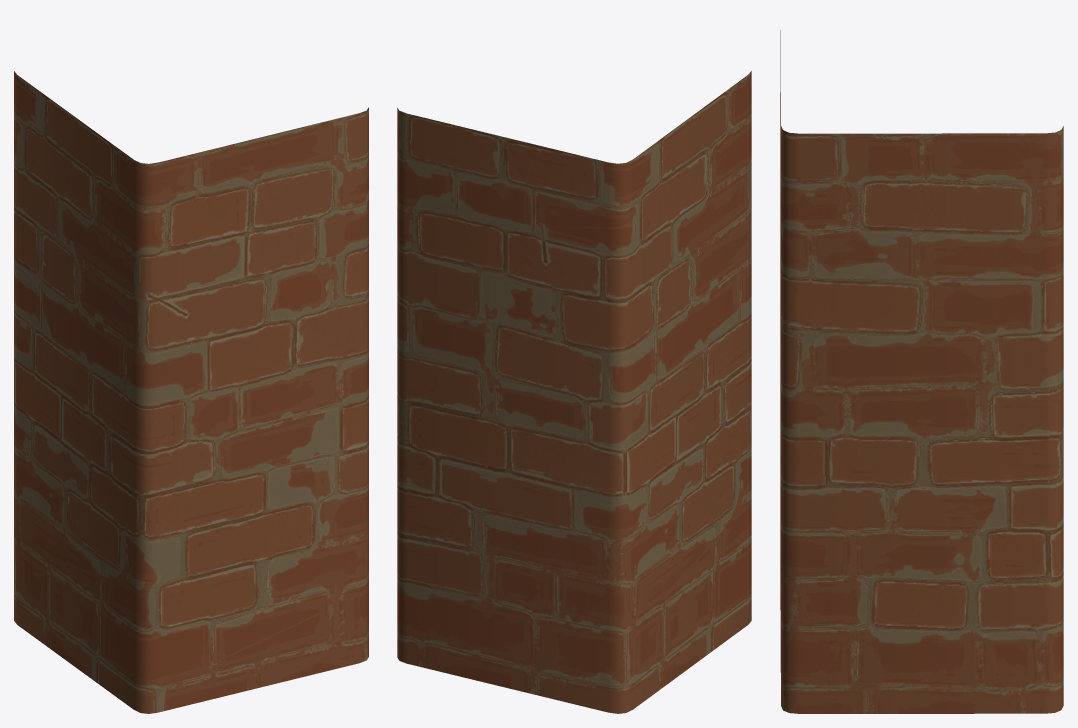
Rendered from SM_building_column_08.glb.
3 renders of one model, left to right at view 1: azimuth 30°, elevation 25°; view 2: azimuth 150°, elevation 25°; view 3: azimuth 270°, elevation 25°, orthographic. The views are drawn at different scales.
Parts seen in each view (by area): view 1: SM_building_column_08; view 2: SM_building_column_08; view 3: SM_building_column_08.
Boxes of the visible parts, box(x1,y1,x2,y2) form: SM_building_column_08: box(14, 71, 368, 713); SM_building_column_08: box(397, 71, 751, 713); SM_building_column_08: box(780, 30, 1063, 713).
Size of the model in its own units: 0.8841 by 2 by 0.8841.
1 material, 1 textured.
